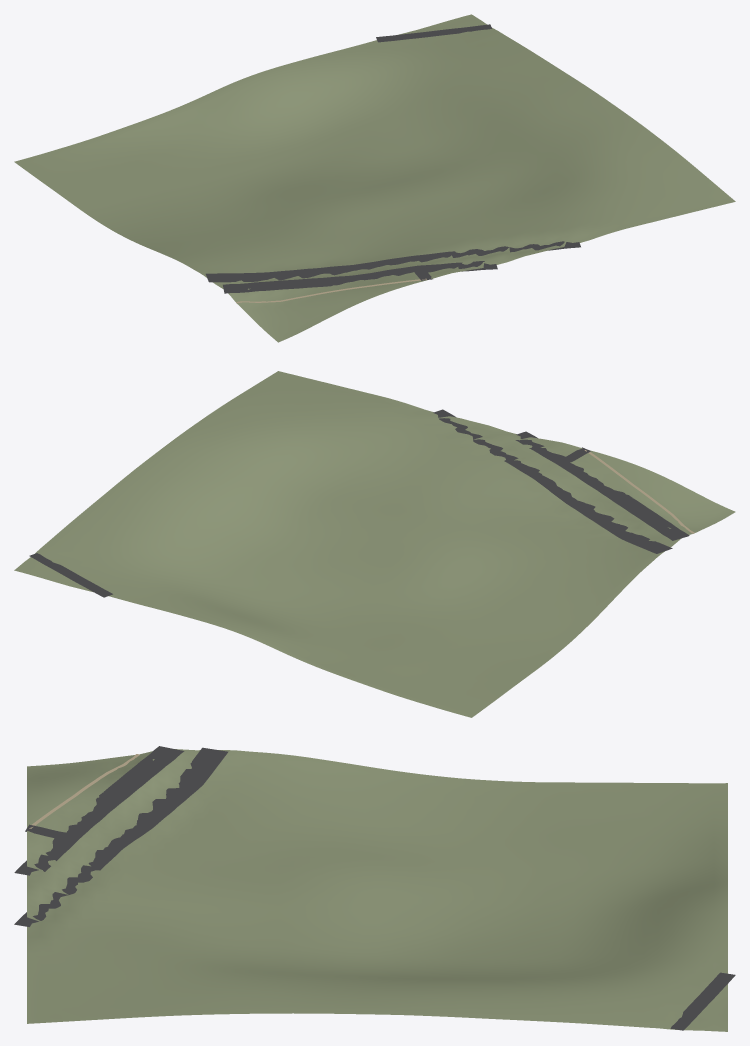
3 renders of one model, top to bottom at view 1: azimuth 30°, elevation 25°; view 2: azimuth 150°, elevation 25°; view 3: azimuth 270°, elevation 25°, orthographic. The views are drawn at different scales.
Parts seen in each view (by area): view 1: ground, road; view 2: ground, road; view 3: ground, road.
Boxes of the visible parts, x1,y1,x2,y2 form: ground: [14, 14, 735, 342]; road: [205, 24, 580, 293]; ground: [14, 371, 735, 717]; road: [29, 409, 689, 597]; ground: [27, 749, 727, 1031]; road: [14, 746, 735, 1030].
Size of the model in its own units: 253 by 25.97 by 257.
